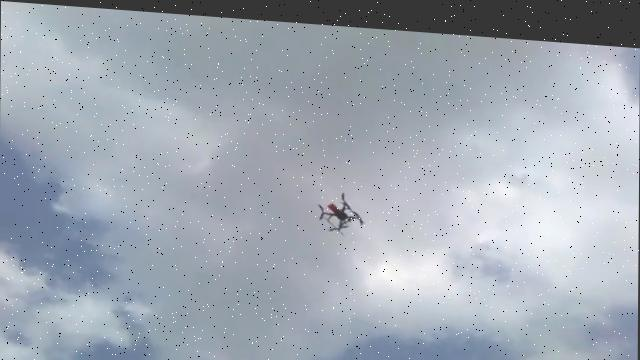drone: (314, 182, 362, 230)
